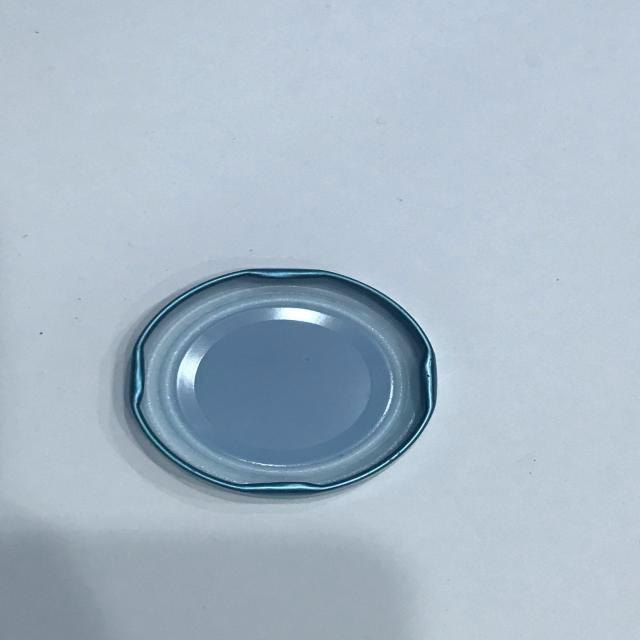metal: (113, 249, 458, 520)
